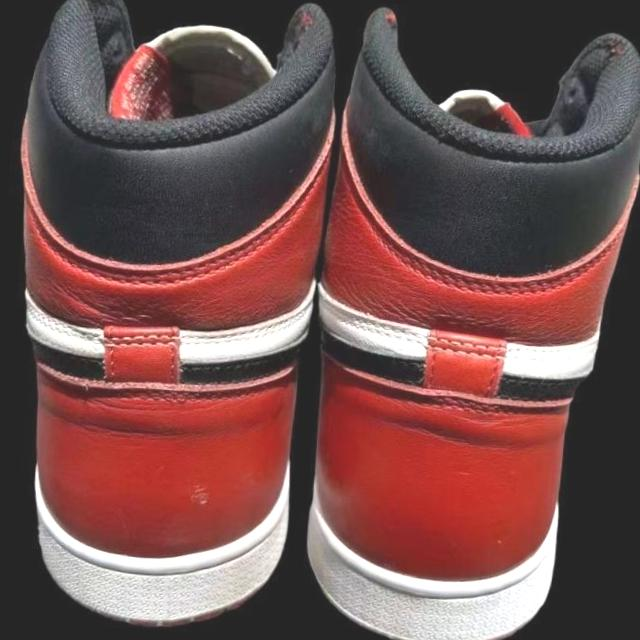nike_original_jordan: (0, 0, 346, 639), (294, 13, 640, 640)
